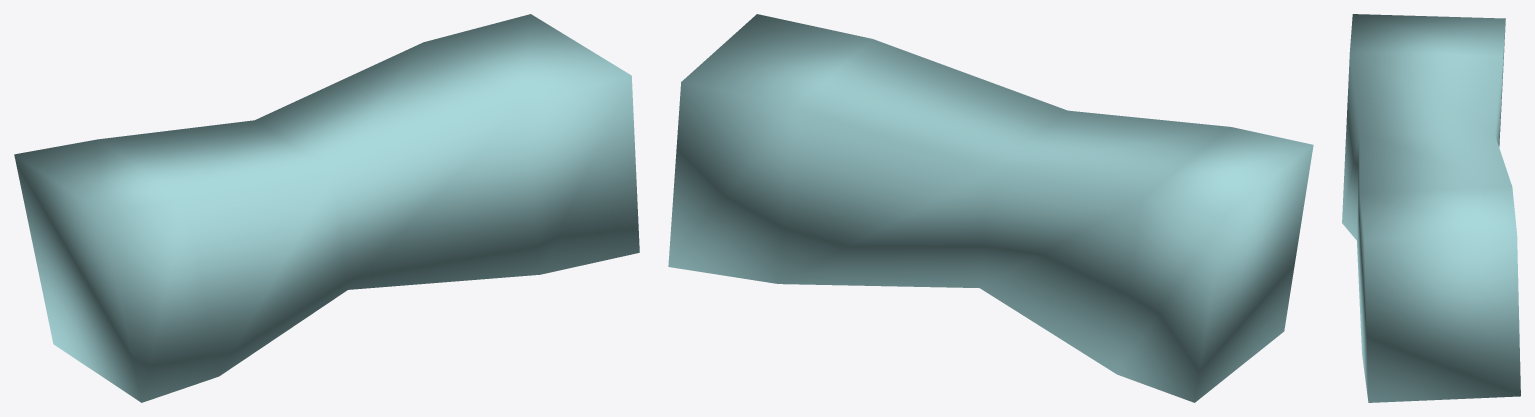
File: Skelly_f_ring.02.R.fbx
3 renders of one model, left to right at view 1: azimuth 30°, elevation 25°; view 2: azimuth 150°, elevation 25°; view 3: azimuth 270°, elevation 25°, orthographic. The views are drawn at different scales.
Parts seen in each view (by area): view 1: Skelly_f_ring.02.R; view 2: Skelly_f_ring.02.R; view 3: Skelly_f_ring.02.R.
Part boxes in pixels (x1,y1,x2,y2): Skelly_f_ring.02.R: (14, 14, 639, 402); Skelly_f_ring.02.R: (668, 14, 1313, 402); Skelly_f_ring.02.R: (1342, 14, 1520, 402).
Size of the model in its own units: 3.8 by 1.35 by 1.24.
